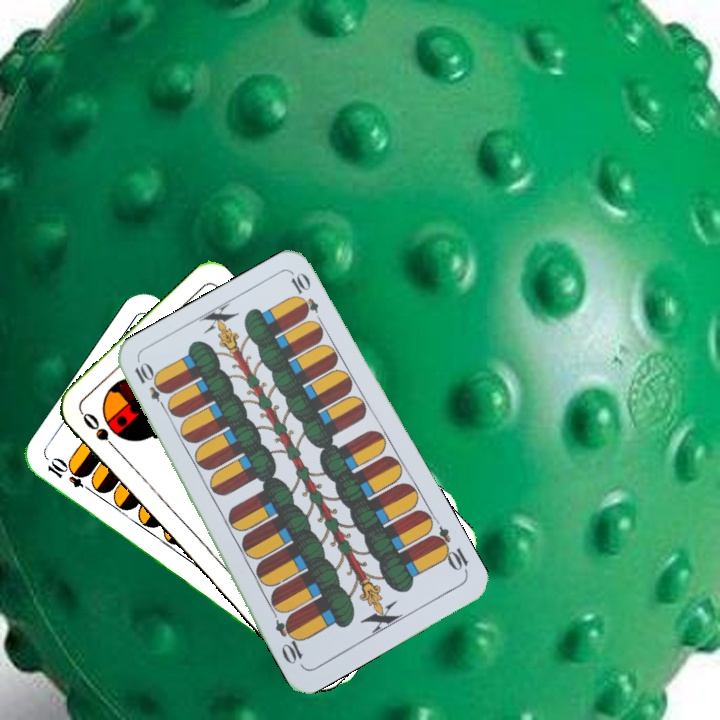E10: (427, 522, 471, 577), (130, 359, 171, 414), (43, 457, 98, 496)
SO: (77, 408, 123, 456)
